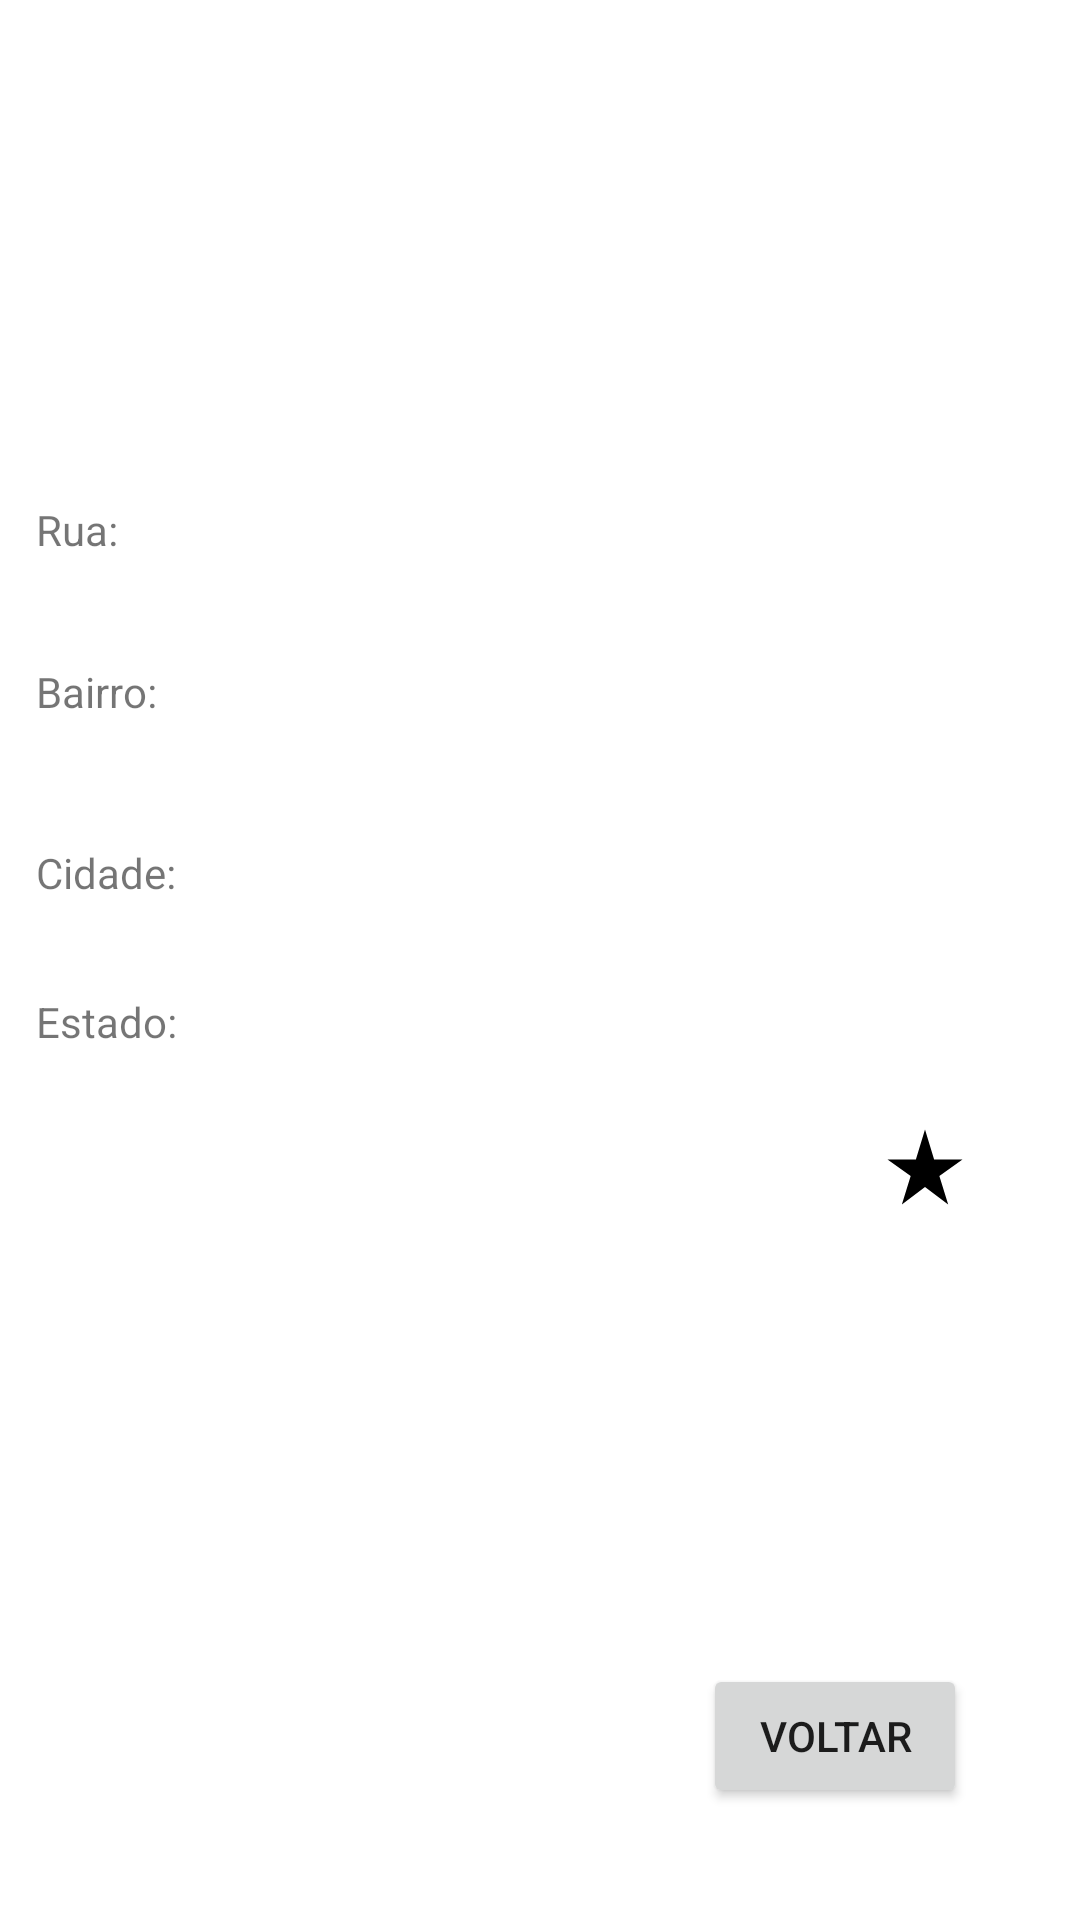

Named icons in this screenshot (1080x1920) and their bounding boxes, detection(x1, y1, x2, y2):
star rate: detection(888, 1130, 962, 1205)
